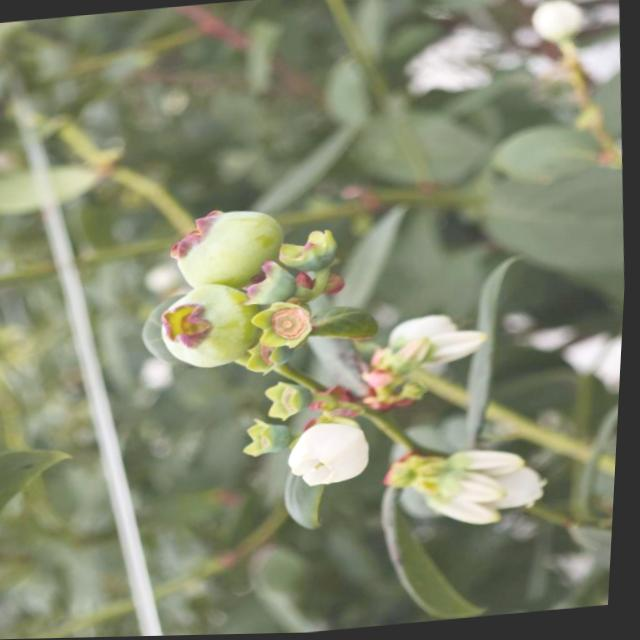UnripeBlueBerry: (172, 202, 293, 294), (155, 279, 267, 375)
